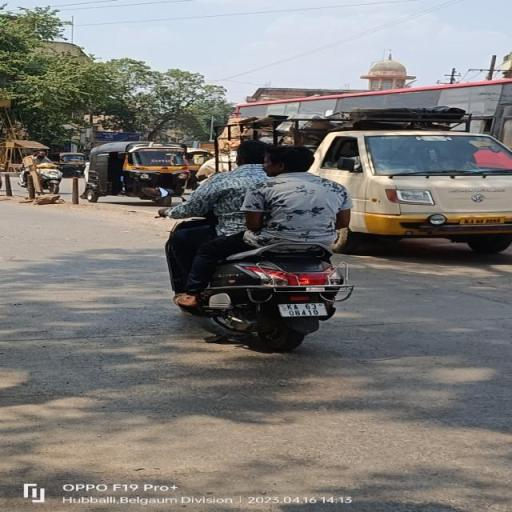bike: (152, 138, 362, 352)
numberplate: (280, 302, 328, 318)
withouthelmet: (266, 147, 310, 174), (238, 140, 266, 166)
